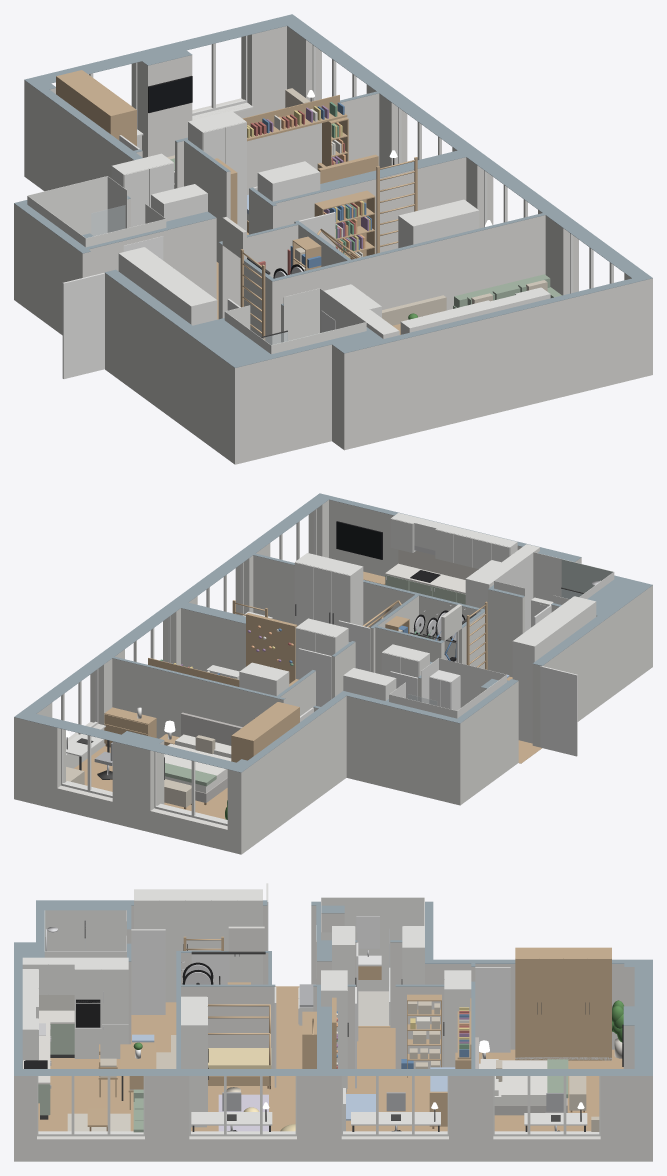
3 views of the same model, one above another, from view 1: azimuth 30°, elevation 25°; view 2: azimuth 150°, elevation 25°; view 3: azimuth 270°, elevation 25° (orthographic). The views are drawn at different scales.
Parts seen in each view (by area): view 1: wall, white, wallcap, oak, tile_wall, white_gloss, fabric_sand, screen, fabric_green, glass, book1, mirror (+2 smaller); view 2: wall, white, wallcap, oak, white_gloss, tile_wall, oak_floor, linen, upholstery, fabric_sand, screen, tile_accent (+7 smaller); view 3: wall, white, oak, oak_floor, wallcap, tile_wall, white_gloss, fabric_sand, linen, fabric_grey, bed_yellow, black (+14 smaller).
Boxes of the visible parts, <box> form: wall: <box>14,26,652,464</box>; white: <box>89,35,613,338</box>; wallcap: <box>14,14,652,367</box>; oak: <box>56,70,417,339</box>; tile_wall: <box>27,176,366,354</box>; white_gloss: <box>62,135,335,378</box>; fabric_sand: <box>167,88,547,325</box>; screen: <box>149,77,192,112</box>; fabric_green: <box>170,158,561,308</box>; glass: <box>91,205,287,344</box>; book1: <box>262,102,371,268</box>; mirror: <box>123,236,335,332</box>; wall: <box>14,500,652,854</box>; white: <box>61,509,596,825</box>; wallcap: <box>14,493,652,772</box>; oak: <box>104,571,487,762</box>; white_gloss: <box>298,604,577,756</box>; tile_wall: <box>389,552,614,718</box>; oak_floor: <box>74,676,541,819</box>; linen: <box>164,734,231,792</box>; upholstery: <box>181,712,242,802</box>; fabric_sand: <box>66,629,402,807</box>; screen: <box>336,522,381,559</box>; tile_accent: <box>561,559,613,598</box>; wall: <box>14,905,652,1161</box>; white: <box>22,889,611,1136</box>; oak: <box>38,936,611,1131</box>; oak_floor: <box>40,986,623,1131</box>; wallcap: <box>14,900,652,1075</box>; tile_wall: <box>44,897,424,991</box>; white_gloss: <box>131,883,510,1088</box>; fabric_sand: <box>99,1001,599,1131</box>; linen: <box>479,1059,567,1105</box>; fabric_grey: <box>222,984,563,1112</box>; bed_yellow: <box>208,1048,295,1131</box>; black: <box>24,962,623,1068</box>.
Bounding box in the file's own units: 10.16 × 2.71 × 14.2.
